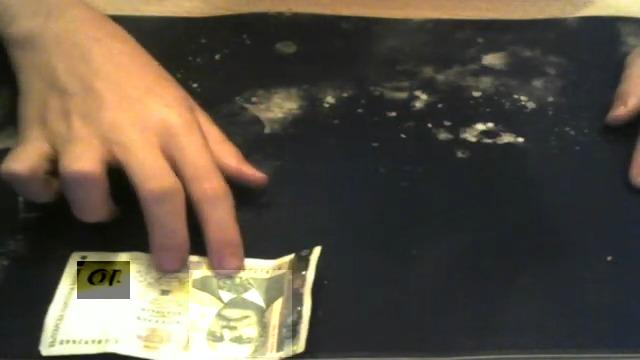10leva: (189, 270, 292, 357), (77, 262, 130, 299)
